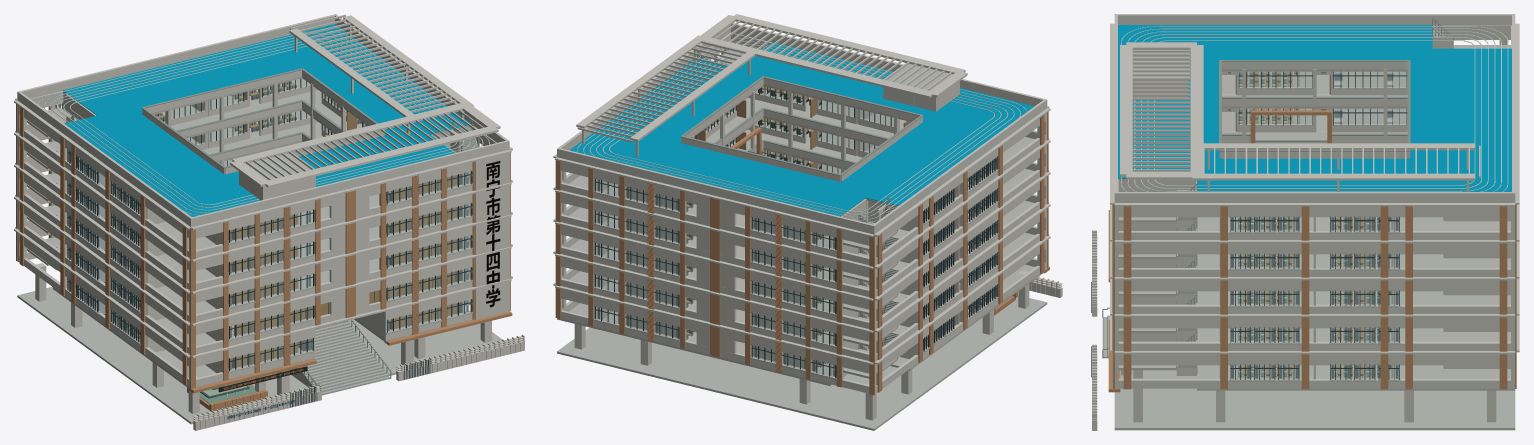
3 renders of one model, left to right at view 1: azimuth 30°, elevation 25°; view 2: azimuth 150°, elevation 25°; view 3: azimuth 270°, elevation 25°, orthographic. The views are drawn at different scales.
Parts seen in each view (by area): view 1: matte, windowGlass, metal, 南宁市第十四中学, water; view 2: matte, windowGlass, metal; view 3: matte, windowGlass, metal.
Part boxes in pixels (x1=…): matte: x1=14, y1=14, x2=524, y2=430; windowGlass: x1=61, y1=79, x2=469, y2=369; metal: x1=47, y1=68, x2=479, y2=407; 南宁市第十四中学: x1=486, y1=161, x2=500, y2=307; water: x1=199, y1=381, x2=256, y2=403; matte: x1=553, y1=14, x2=1062, y2=430; windowGlass: x1=596, y1=86, x2=991, y2=376; metal: x1=680, y1=51, x2=923, y2=358; matte: x1=1092, y1=14, x2=1519, y2=430; windowGlass: x1=1231, y1=72, x2=1405, y2=378; metal: x1=1091, y1=18, x2=1453, y2=377.
Size of the model in its own units: 48.4 by 30.53 by 47.25.
Materials: 16 (9 with a texture image).
